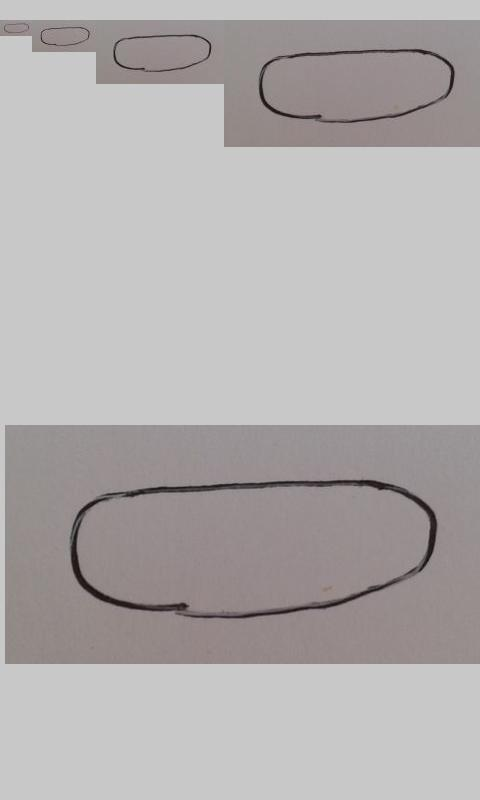chip: (68, 478, 439, 621), (259, 48, 455, 124), (113, 34, 212, 72), (40, 26, 90, 47), (3, 22, 30, 34)
